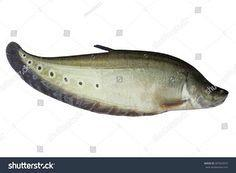Knifefish: (6, 41, 230, 117)
